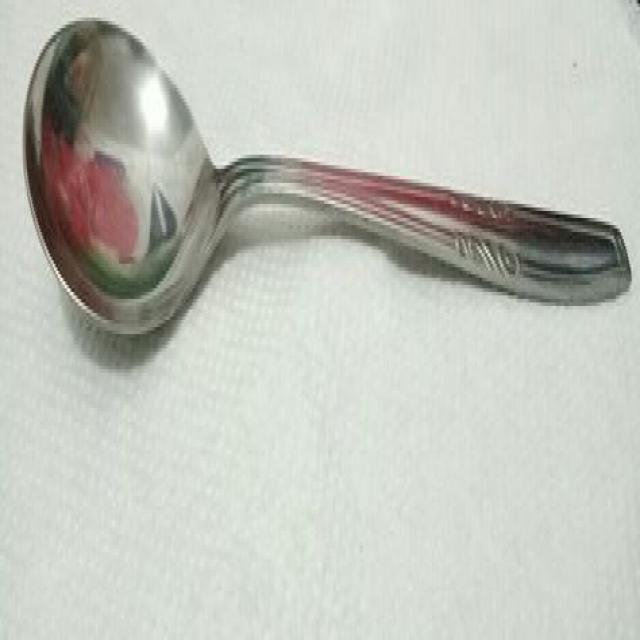spoon: (12, 16, 630, 362)
